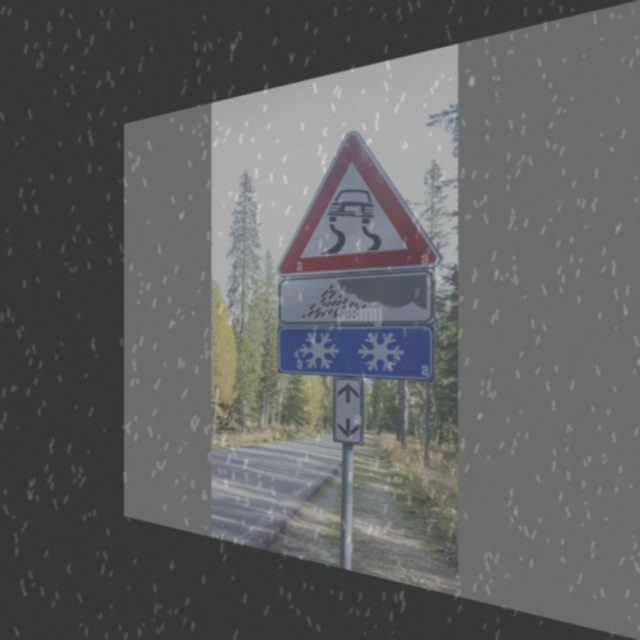Slippery_Road: (283, 119, 431, 270)
